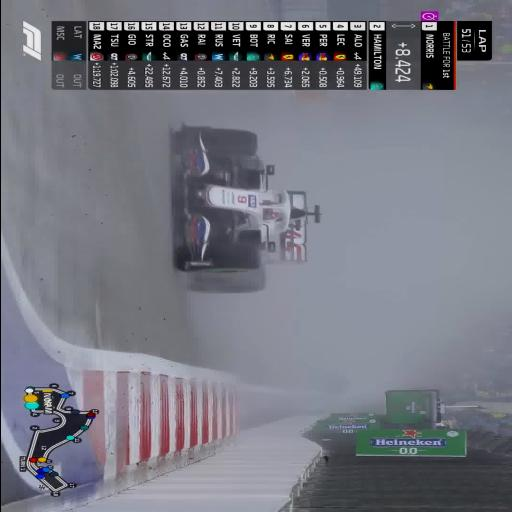f1_car: (174, 125, 319, 293)
